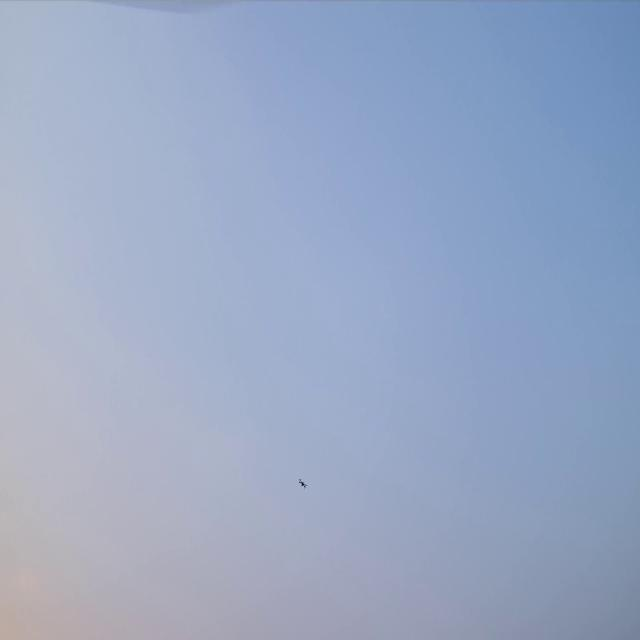UAV: (298, 478, 309, 490)
